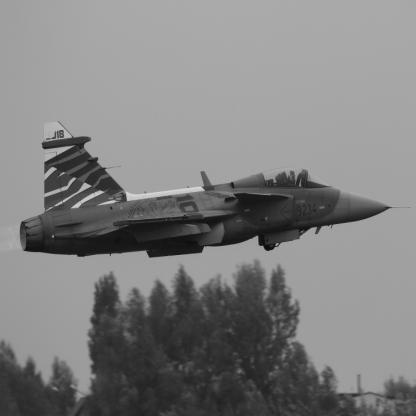JAS39: (21, 121, 413, 260)
